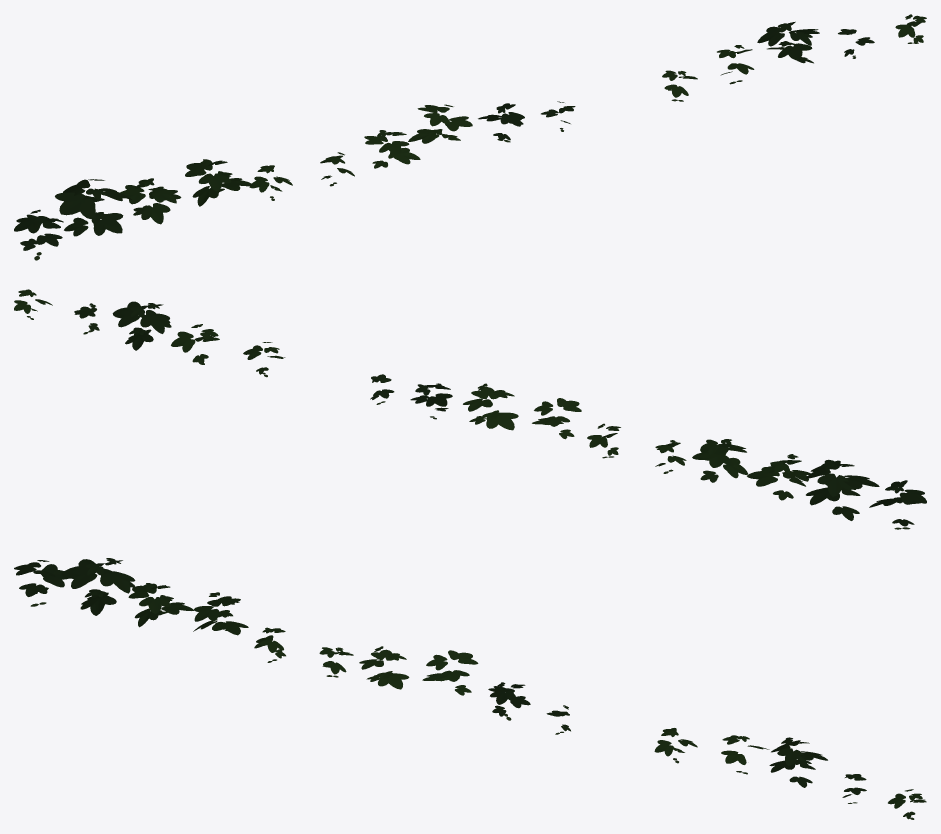
The model's file is ROW_15_SEG4_foliage.dae.
3 renders of one model, top to bottom at view 1: azimuth 30°, elevation 25°; view 2: azimuth 150°, elevation 25°; view 3: azimuth 330°, elevation 25°, orthographic.
Visible parts, largest first — view 1: ROW_15_SEG4_foliage; view 2: ROW_15_SEG4_foliage; view 3: ROW_15_SEG4_foliage.
Part boxes in pixels (bbox=[...]): ROW_15_SEG4_foliage: bbox=[14, 14, 926, 260]; ROW_15_SEG4_foliage: bbox=[14, 289, 926, 529]; ROW_15_SEG4_foliage: bbox=[14, 558, 926, 819].
Size of the model in its own units: 4.77 by 0.3896 by 0.2906.
